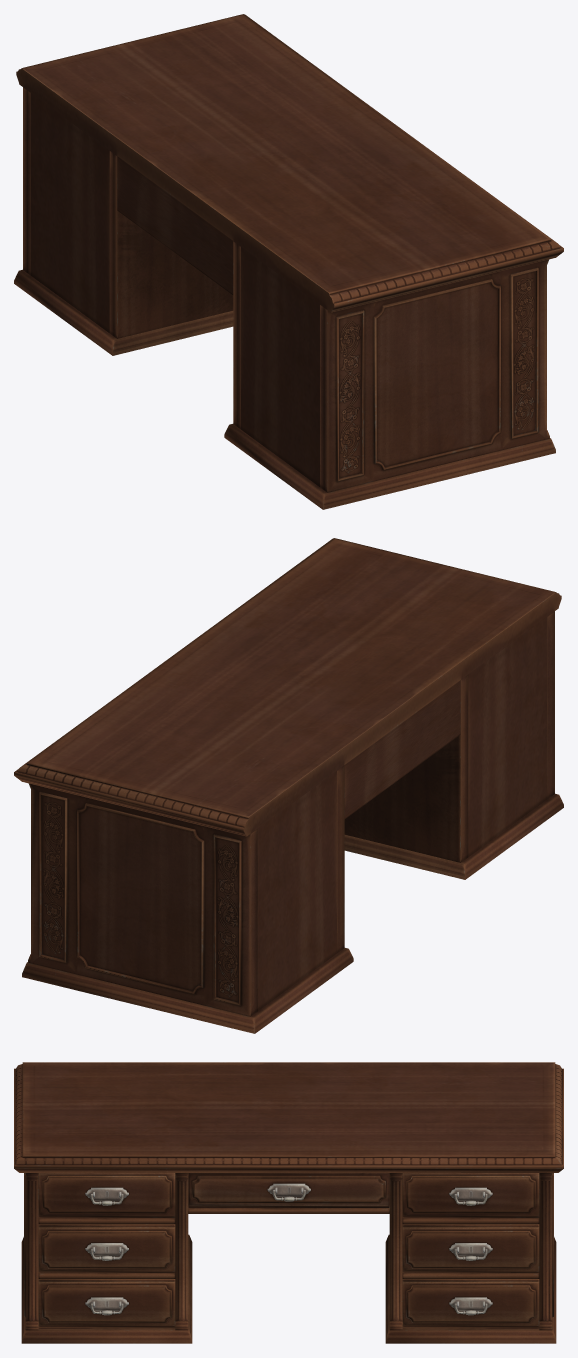
Rendered from antique_wooden_desk.glb.
3 renders of one model, top to bottom at view 1: azimuth 30°, elevation 25°; view 2: azimuth 150°, elevation 25°; view 3: azimuth 270°, elevation 25°, orthographic. The views are drawn at different scales.
Parts seen in each view (by area): view 1: plane_lp.001; view 2: plane_lp.001; view 3: plane_lp.001, handle2_lp.001, handle2_lp.002, handle2_lp.003, handle2_lp.004, handle1_lp.001, handle1_lp.003.
Boxes of the visible parts, box(x1,y1,x2,y2) form: plane_lp.001: box(14, 14, 563, 509); plane_lp.001: box(14, 538, 563, 1033); plane_lp.001: box(14, 1062, 563, 1343); handle2_lp.001: box(38, 1224, 175, 1272); handle2_lp.002: box(38, 1279, 175, 1327); handle2_lp.003: box(402, 1224, 539, 1272); handle2_lp.004: box(402, 1279, 539, 1327); handle1_lp.001: box(38, 1173, 175, 1217); handle1_lp.003: box(402, 1173, 539, 1217).
Bounding box in the file's own units: 0.92 × 0.7966 × 2.14.
1 material, 1 textured.
